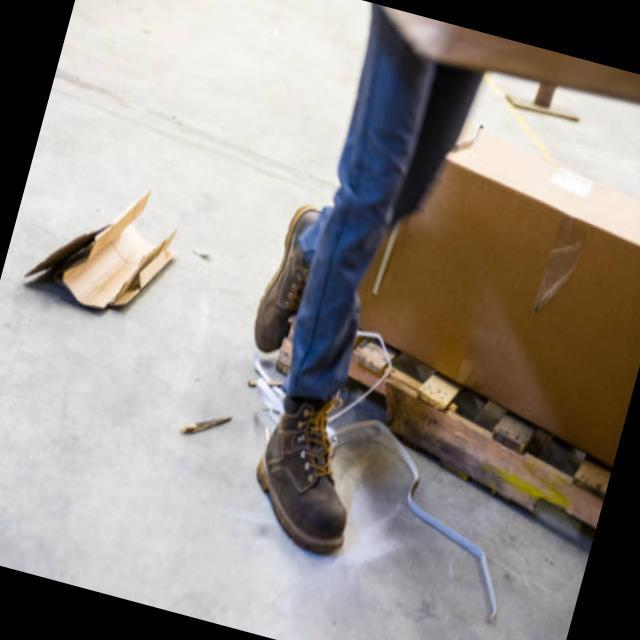boots: (190, 189, 431, 566)
